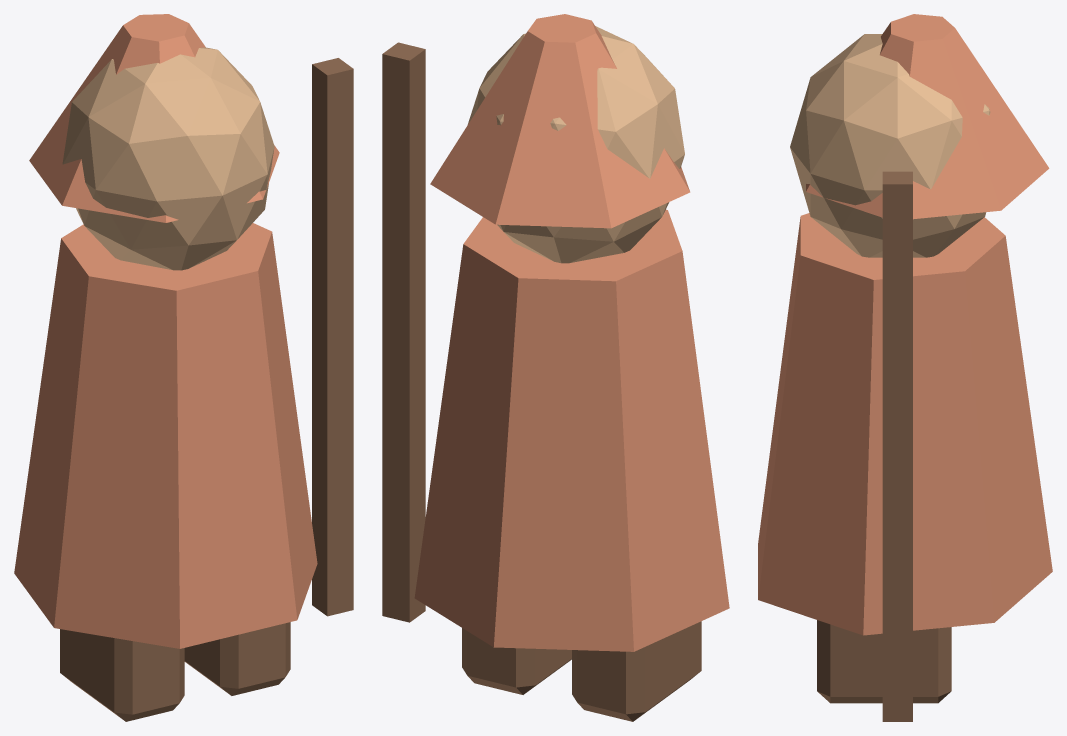
File: agent-1.glb
The picture shows the model from 3 angles, left to right: view 1: azimuth 30°, elevation 25°; view 2: azimuth 150°, elevation 25°; view 3: azimuth 270°, elevation 25°; orthographic projection. The views are drawn at different scales.
Visible parts, largest first — view 1: Body, Head, Staff, Boot, Hood, Boot.001; view 2: Body, Hood, Staff, Head, Boot, Boot.001; view 3: Body, Head, Staff, Hood, Boot.001.
Boxes of the visible parts, bbox=[...] form: Body: bbox=[14, 223, 317, 648]; Head: bbox=[62, 47, 274, 270]; Staff: bbox=[312, 58, 353, 616]; Boot: bbox=[60, 629, 184, 721]; Hood: bbox=[29, 14, 279, 222]; Boot.001: bbox=[184, 622, 290, 695]; Body: bbox=[414, 209, 729, 651]; Hood: bbox=[430, 14, 690, 228]; Staff: bbox=[382, 42, 425, 622]; Head: bbox=[467, 26, 684, 263]; Boot: bbox=[572, 621, 701, 721]; Boot.001: bbox=[462, 628, 571, 694]; Body: bbox=[758, 213, 1052, 635]; Head: bbox=[790, 34, 990, 257]; Staff: bbox=[882, 171, 912, 721]; Hood: bbox=[806, 14, 1049, 219]; Boot.001: bbox=[817, 620, 951, 703].
Size of the model in its own units: 0.5267 by 1.05 by 0.4372.
